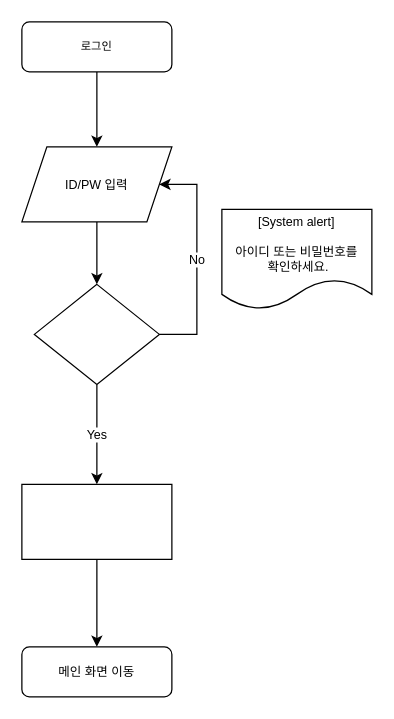
Image size: 394x719. Some labels were removed from this diagram. Each missing label, with the centre of its shape:
"ID/PW 체크" goes at point 96,333.
"로그인 처리" goes at point 96,521.
